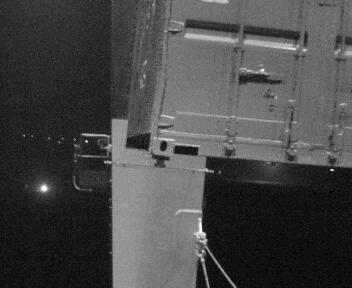twist_lock_1: (144, 151, 175, 174)
